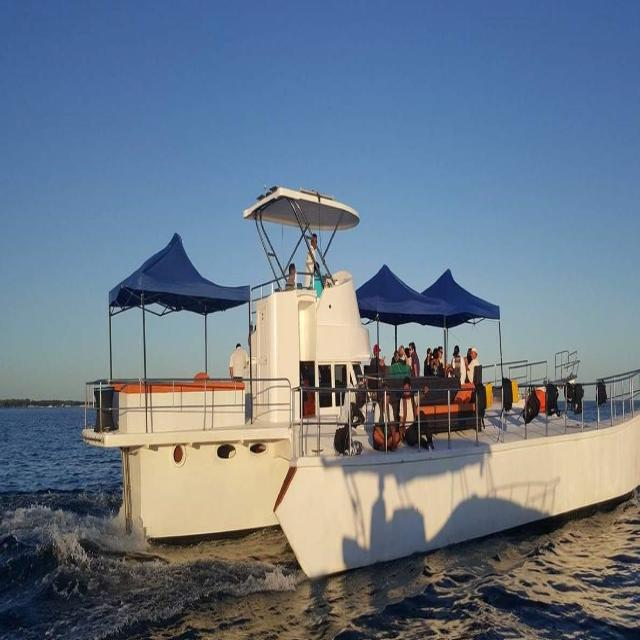houseboat: (99, 161, 640, 576)
